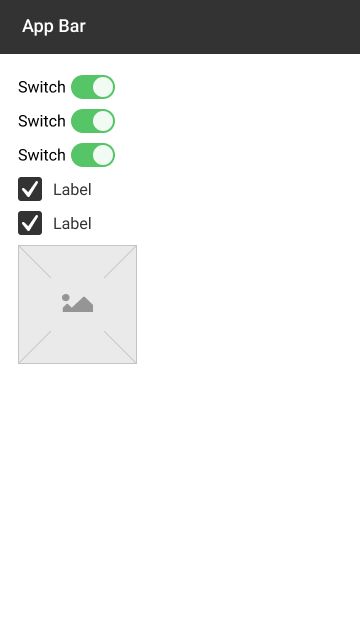checkBox: (16, 174, 93, 202), (16, 209, 93, 237)
imageView: (16, 243, 138, 364)
switch: (14, 73, 116, 100), (16, 108, 116, 135), (17, 144, 117, 167)
toolbar: (2, 1, 360, 56)
